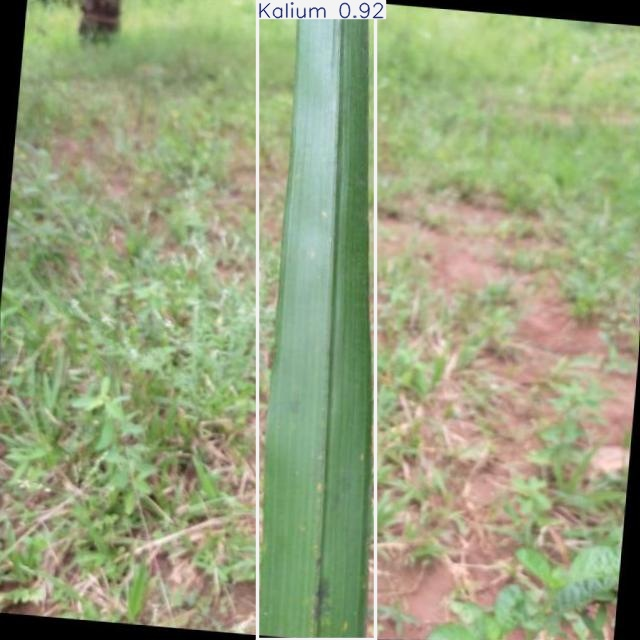Kalium: (257, 0, 375, 639)
